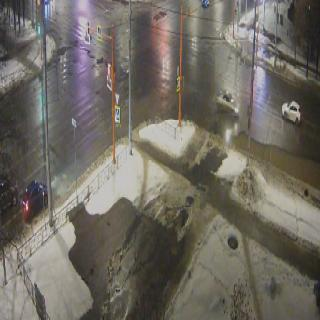small-vehicle: (20, 179, 50, 215), (215, 84, 242, 120), (0, 175, 19, 214), (281, 92, 302, 126)
